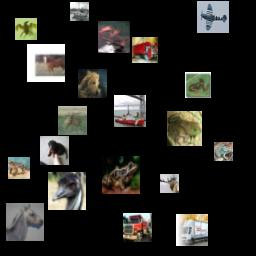airplane: (197, 1, 229, 33)
bird: (48, 172, 86, 210)
deer: (98, 21, 130, 53), (58, 106, 87, 135), (160, 174, 179, 193)
dog: (78, 69, 107, 98), (40, 136, 69, 165)
frog: (102, 156, 140, 194), (167, 111, 202, 146), (185, 72, 211, 98), (8, 157, 30, 179), (15, 18, 37, 40), (214, 142, 233, 161)
ship: (114, 95, 146, 127), (70, 2, 89, 21)
truck: (176, 214, 208, 246), (123, 213, 152, 242), (132, 37, 158, 63)
